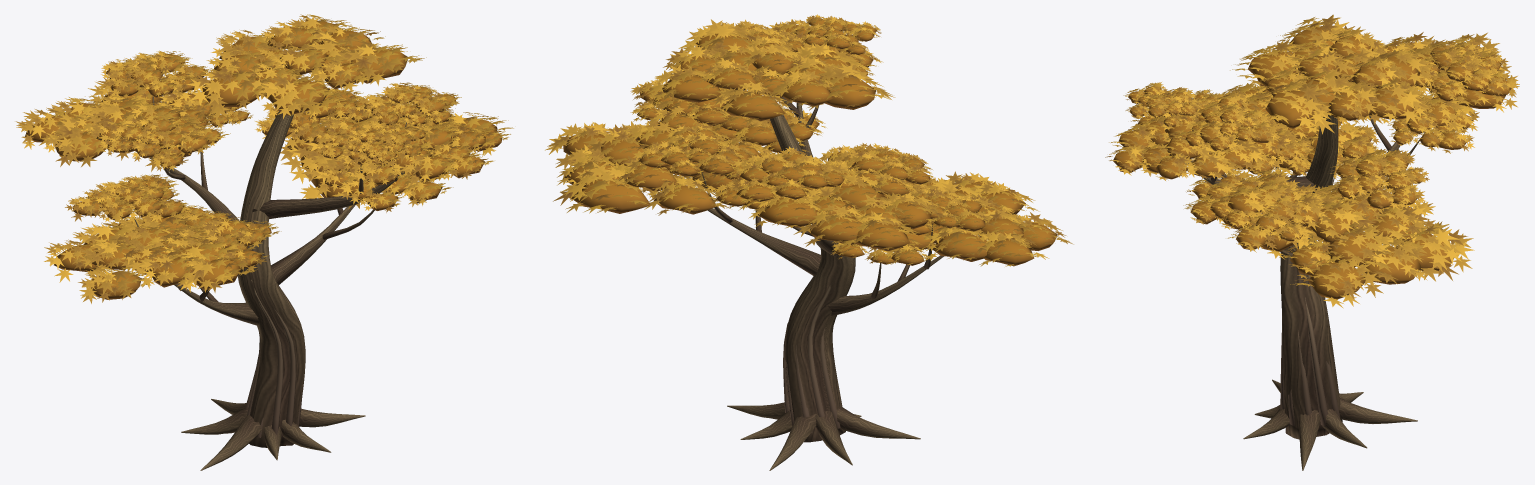
3 views of the same model, side by side, from view 1: azimuth 30°, elevation 25°; view 2: azimuth 150°, elevation 25°; view 3: azimuth 270°, elevation 25° (orthographic). The views are drawn at different scales.
Visible parts, largest first — view 1: Outer_foliage, Crown_mass, Weathered_bark, Sunlit_bark_ridges; view 2: Outer_foliage, Crown_mass, Weathered_bark, Sunlit_bark_ridges; view 3: Outer_foliage, Crown_mass, Weathered_bark, Sunlit_bark_ridges.
Part boxes in pixels (bbox=[...]): Outer_foliage: bbox=[15, 14, 513, 303]; Crown_mass: bbox=[25, 19, 502, 299]; Weathered_bark: bbox=[134, 96, 408, 470]; Sunlit_bark_ridges: bbox=[245, 280, 302, 437]; Outer_foliage: bbox=[545, 14, 1073, 266]; Crown_mass: bbox=[563, 18, 1057, 266]; Weathered_bark: bbox=[701, 96, 943, 470]; Sunlit_bark_ridges: bbox=[783, 285, 840, 432]; Outer_foliage: bbox=[1105, 14, 1519, 308]; Crown_mass: bbox=[1113, 27, 1511, 299]; Weathered_bark: bbox=[1185, 112, 1424, 470]; Sunlit_bark_ridges: bbox=[1280, 297, 1339, 426].
Size of the model in its own units: 5.99 by 4.51 by 4.34.
Materials: 4 (1 with a texture image).
